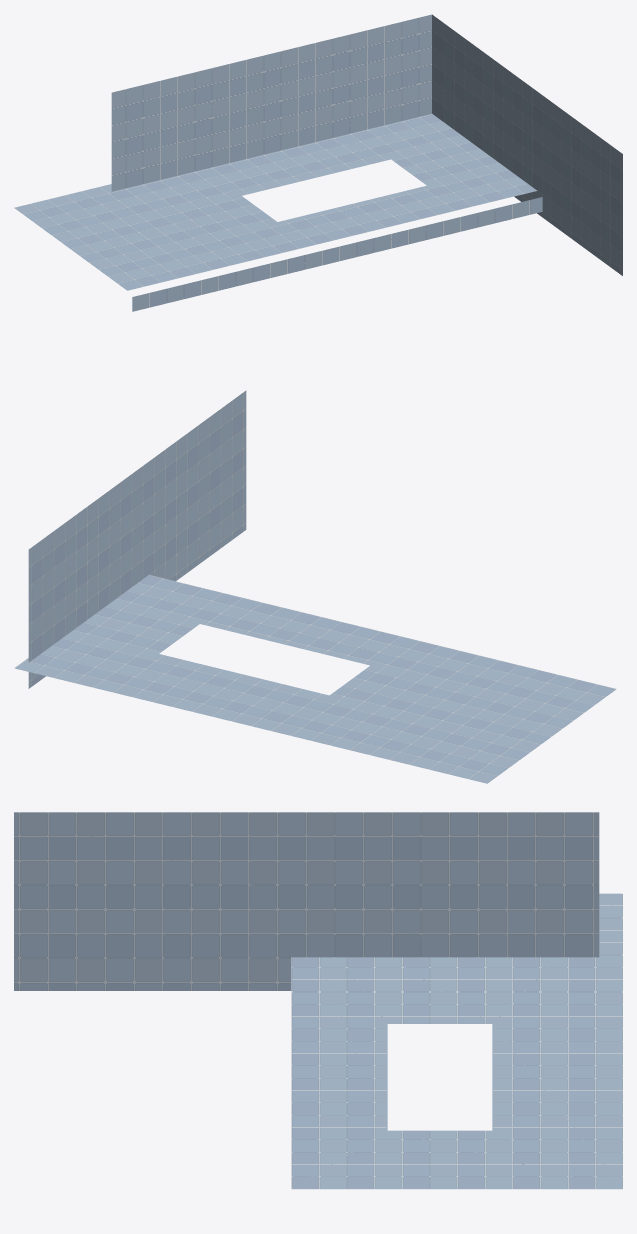
The model's file is kd_stage_135c43_4_26.glb.
3 views of the same model, one above another, from view 1: azimuth 30°, elevation 25°; view 2: azimuth 150°, elevation 25°; view 3: azimuth 270°, elevation 25° (orthographic). The views are drawn at different scales.
Visible parts, largest first — view 1: kd_stage_135c43_4_26; view 2: kd_stage_135c43_4_26; view 3: kd_stage_135c43_4_26.
Boxes of the visible parts, x1,y1,x2,y2 form: kd_stage_135c43_4_26: [14, 14, 622, 311]; kd_stage_135c43_4_26: [14, 390, 616, 783]; kd_stage_135c43_4_26: [14, 812, 622, 1189].
Bounding box in the file's own units: 2.01 × 0.5651 × 1.75.
1 material, 1 textured.
